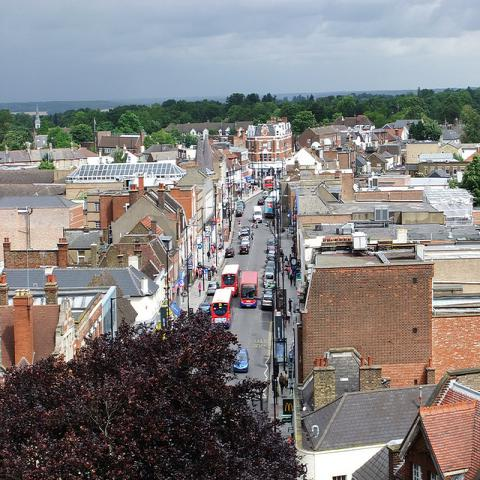bus: (211, 289, 234, 328), (221, 264, 241, 298), (240, 270, 258, 307), (264, 175, 274, 191)
car: (190, 136, 322, 314), (233, 348, 249, 372), (262, 294, 272, 311), (224, 245, 236, 259), (240, 238, 250, 254), (264, 271, 275, 285), (266, 241, 276, 254), (266, 256, 276, 268), (264, 266, 274, 276), (240, 232, 250, 239), (243, 225, 250, 235), (263, 288, 272, 294), (257, 198, 264, 205), (236, 209, 243, 216)
truck: (264, 195, 276, 219), (253, 206, 262, 223)
